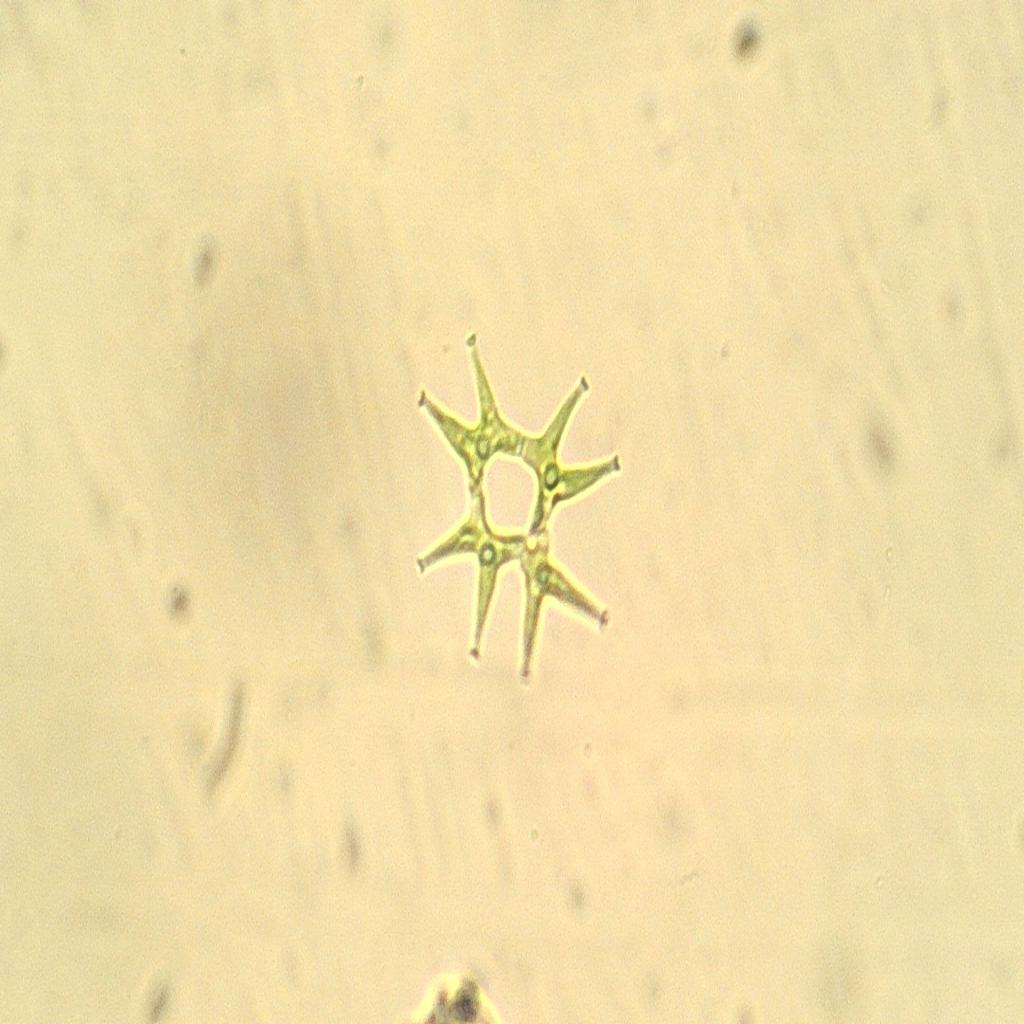Pediastrum_CF: (409, 327, 644, 699)
